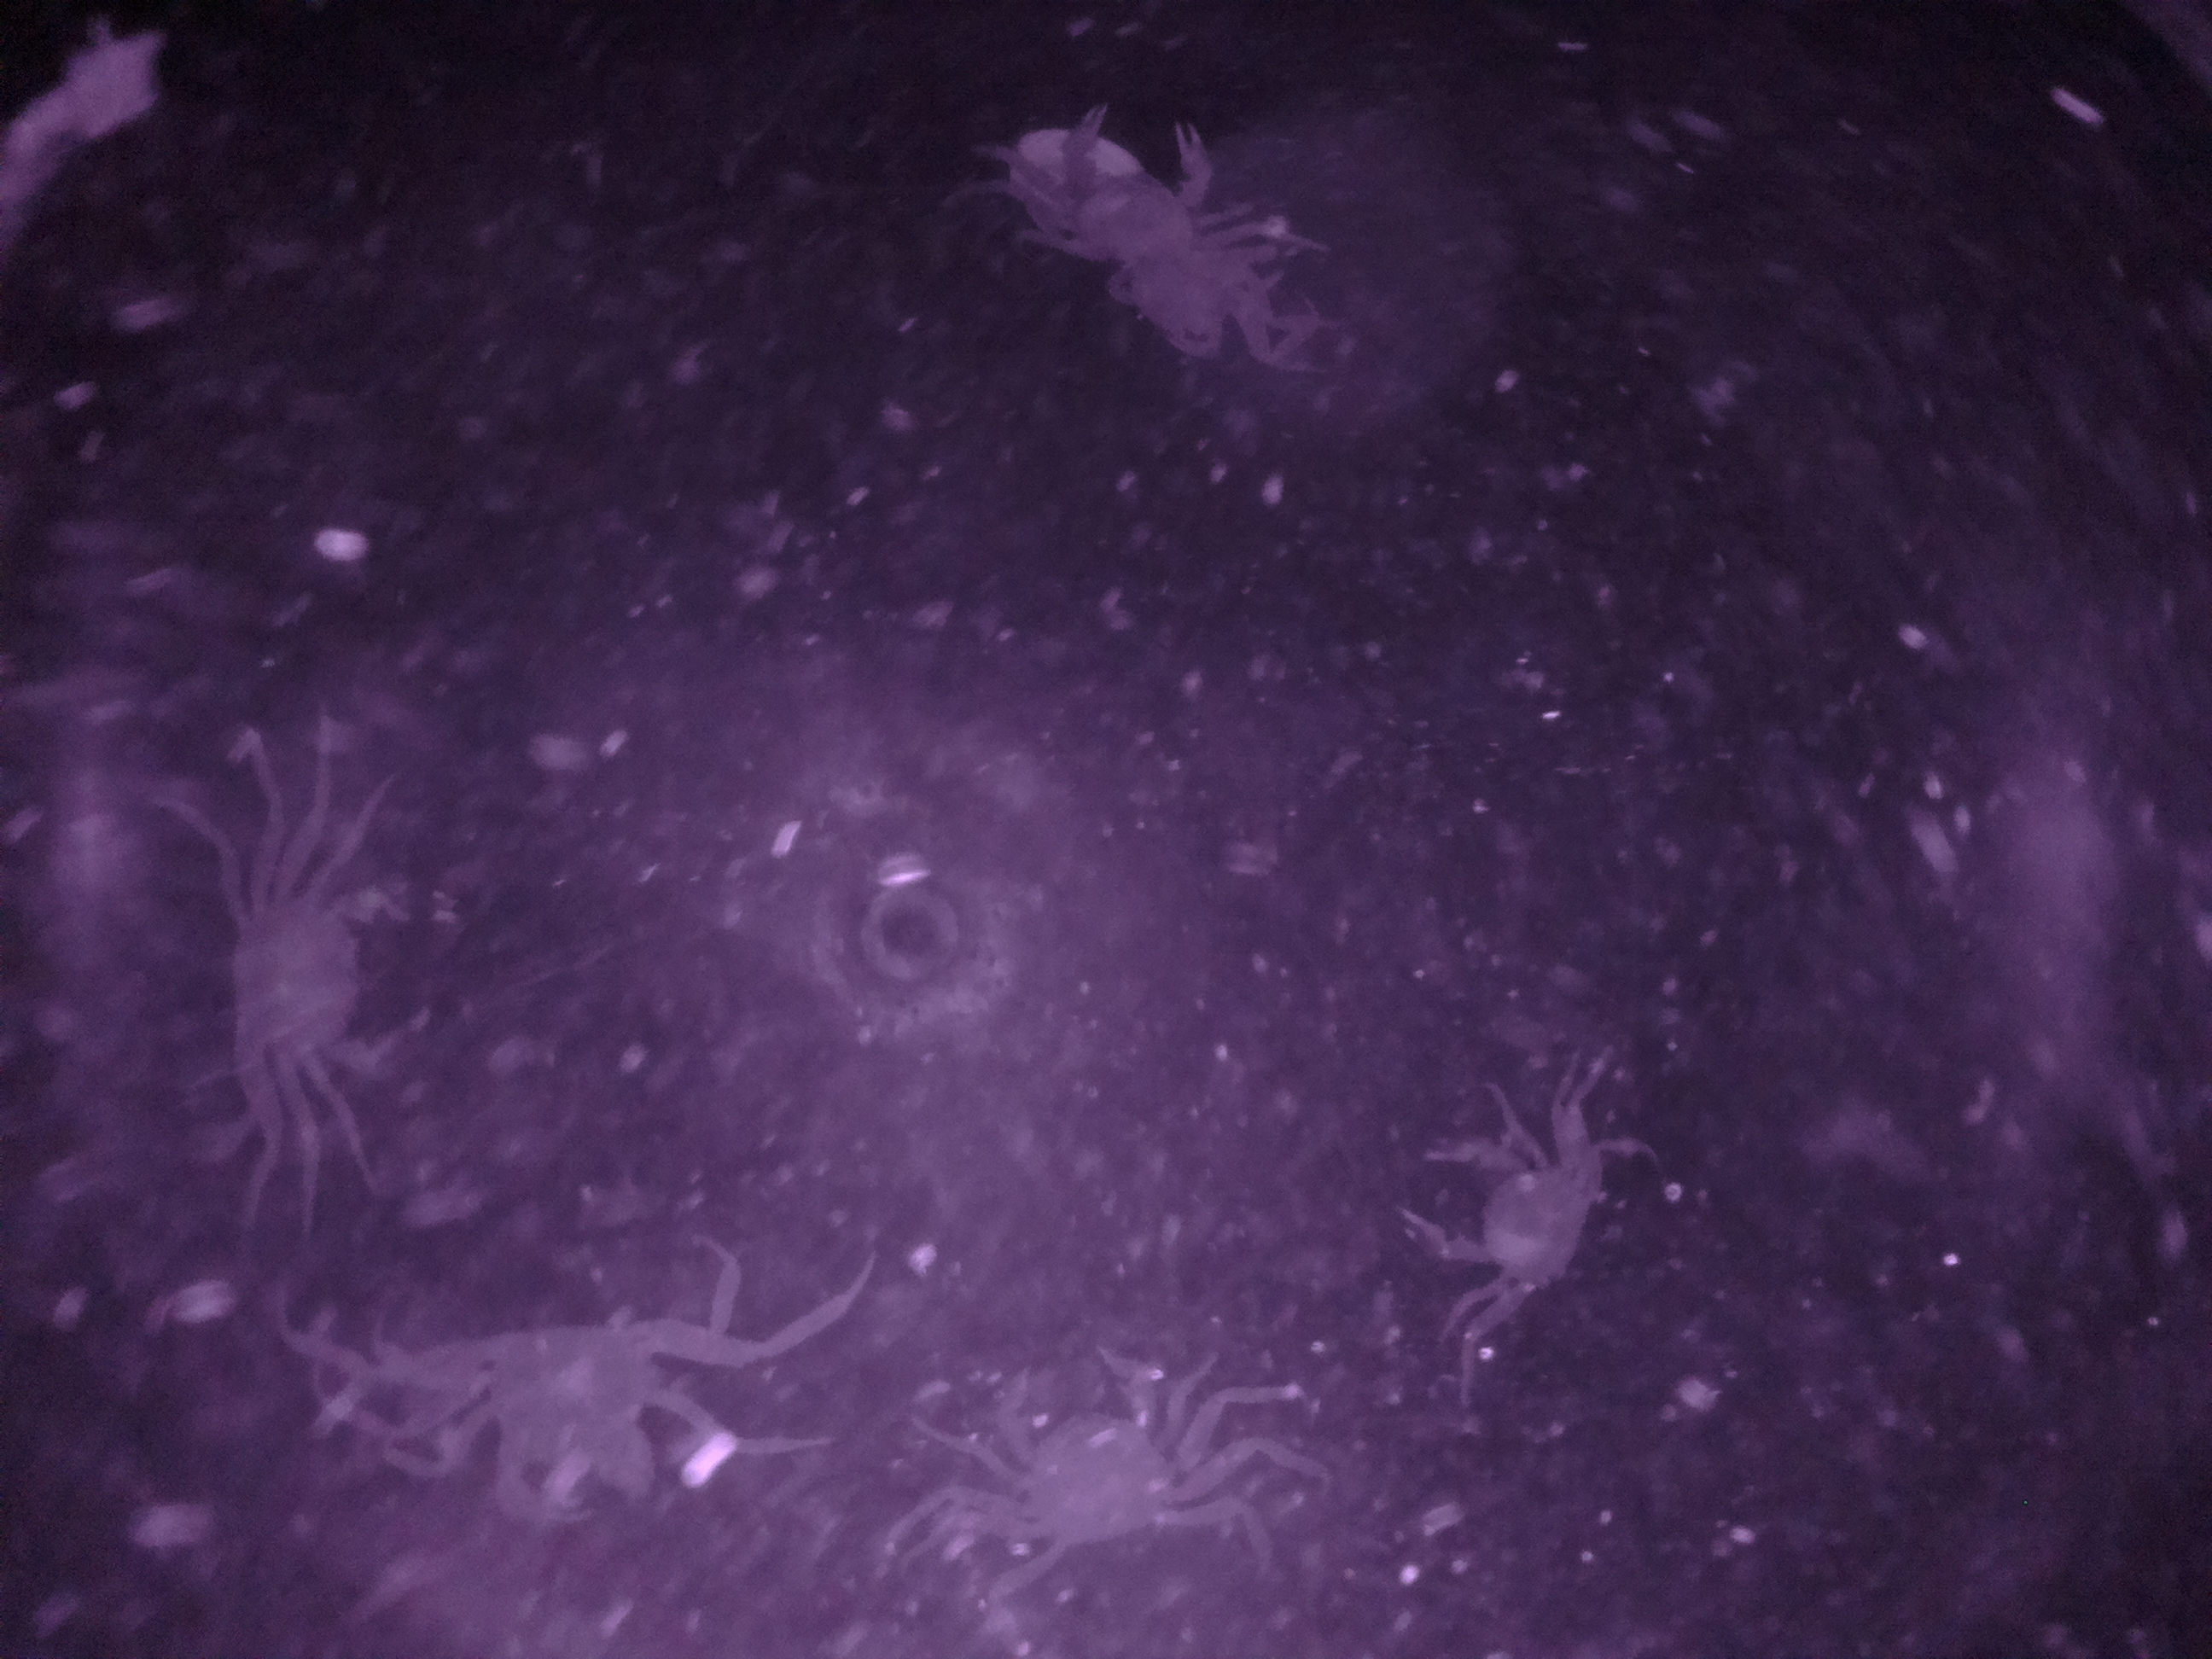Crab: (1388, 1094, 1623, 1330)
